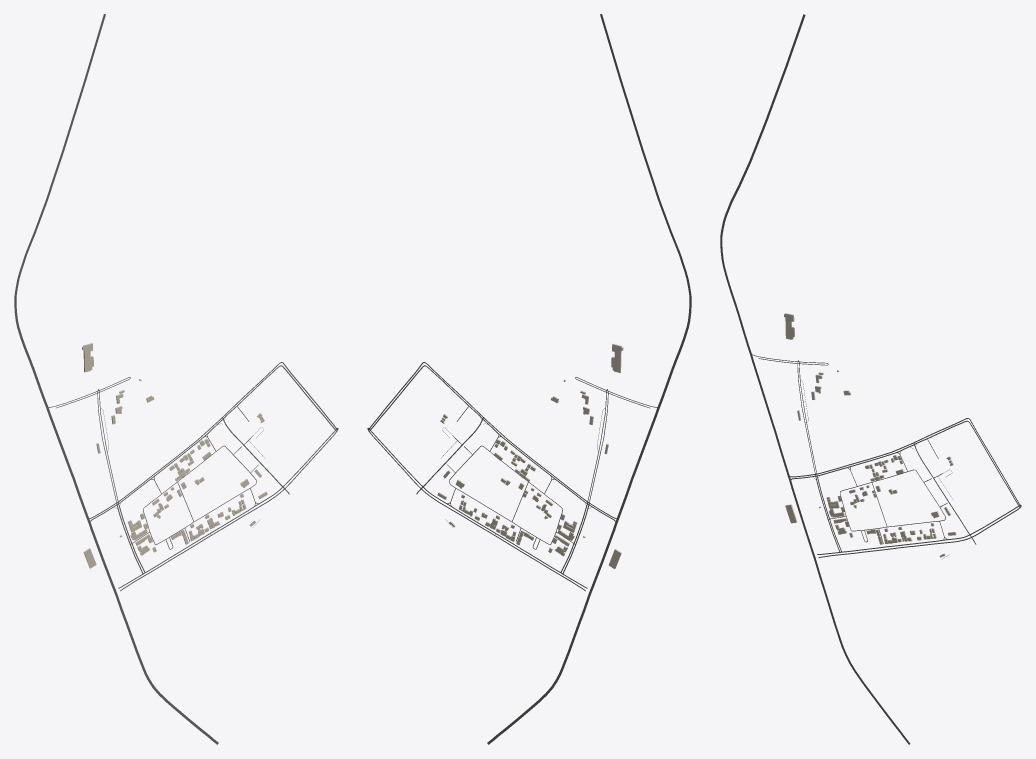
The model's file is aqaba_3502_2956.glb.
3 views of the same model, side by side, from view 1: azimuth 30°, elevation 25°; view 2: azimuth 150°, elevation 25°; view 3: azimuth 330°, elevation 25° (orthographic). The views are drawn at different scales.
Parts seen in each view (by area): view 1: Road Jordan Valley Highway, Road .001; view 2: Road Jordan Valley Highway, Road .001; view 3: Road Jordan Valley Highway, Road .001.
Boxes of the visible parts, x1,y1,x2,y2 form: Road Jordan Valley Highway: (14, 14, 218, 744); Road .001: (118, 365, 336, 572); Road Jordan Valley Highway: (487, 14, 691, 744); Road .001: (369, 365, 587, 572); Road Jordan Valley Highway: (720, 14, 910, 744); Road .001: (817, 420, 1019, 551).
Bounding box in the file's own units: 1719 × 3844 × 9.09.
